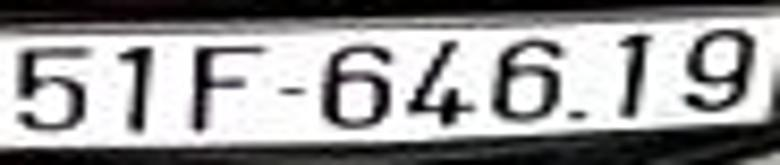-: (278, 84, 305, 96)
.: (565, 110, 589, 121)
1: (613, 33, 648, 118), (119, 45, 150, 131)
4: (409, 39, 476, 128)
5: (21, 47, 88, 133)
6: (492, 35, 560, 123), (321, 44, 392, 127)
9: (684, 30, 754, 111)
F: (192, 44, 261, 130)
